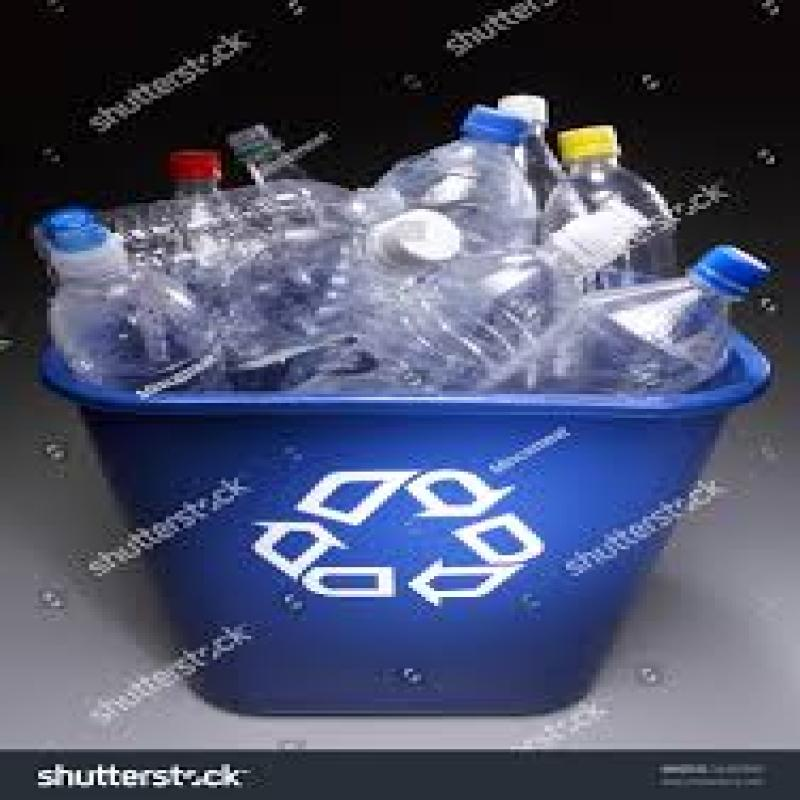botella: (299, 219, 645, 393), (190, 210, 474, 377), (497, 253, 767, 401), (30, 211, 242, 396), (84, 183, 411, 255), (539, 125, 677, 295), (388, 108, 545, 256)
